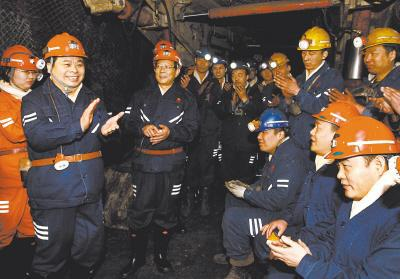helmet: (324, 110, 396, 194), (43, 29, 91, 90), (311, 103, 355, 155), (360, 23, 399, 74), (296, 25, 334, 71), (3, 43, 40, 90), (256, 109, 291, 148), (151, 42, 182, 86), (262, 50, 287, 80), (191, 45, 212, 74), (229, 62, 250, 90), (211, 54, 230, 79)
